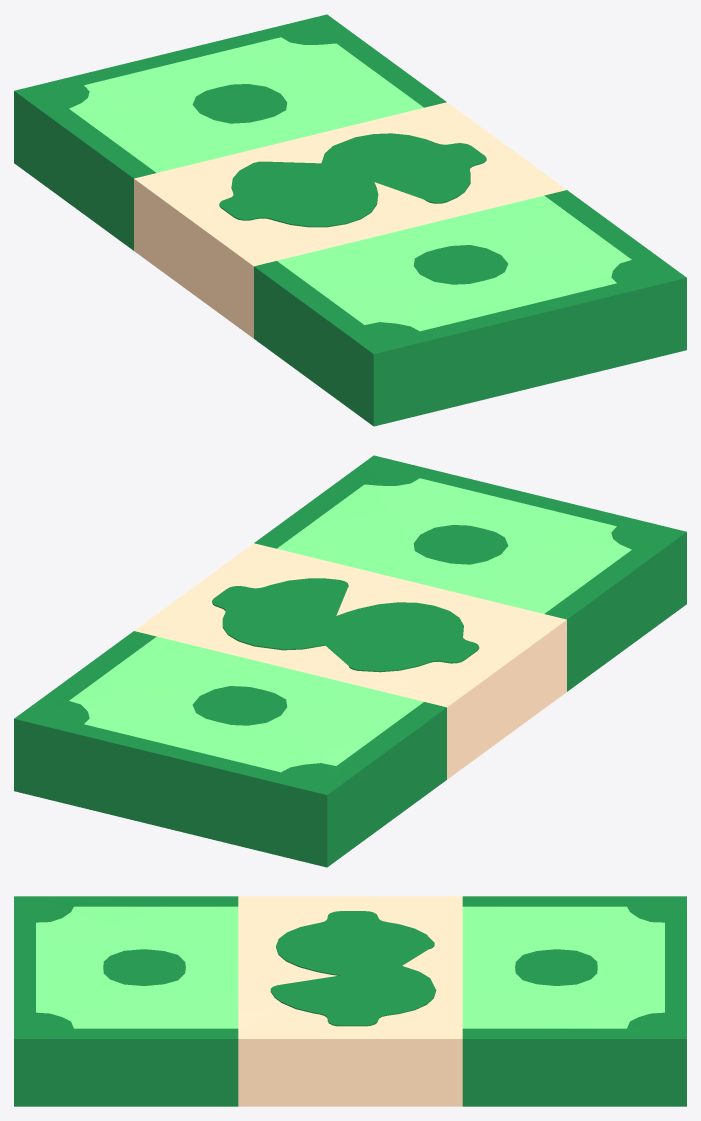
File: money.fbx
The picture shows the model from 3 angles, top to bottom: view 1: azimuth 30°, elevation 25°; view 2: azimuth 150°, elevation 25°; view 3: azimuth 270°, elevation 25°; orthographic projection. The views are drawn at different scales.
Visible parts, largest first — view 1: Cube, Fill; view 2: Cube, Fill; view 3: Cube, Fill.
Boxes of the visible parts, box(x1,y1,x2,y2) form: Cube: box(14, 14, 686, 426); Fill: box(219, 133, 486, 227); Cube: box(14, 455, 686, 867); Fill: box(212, 578, 479, 672); Cube: box(14, 896, 686, 1106); Fill: box(270, 911, 436, 1026).
Size of the model in its own units: 35.36 by 8.34 by 70.36.
